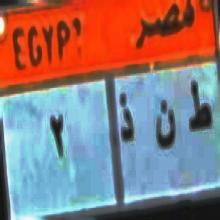2: (46, 107, 72, 174)
Taa: (188, 76, 212, 148)
noon: (152, 89, 178, 164)
zaal: (115, 88, 141, 157)
